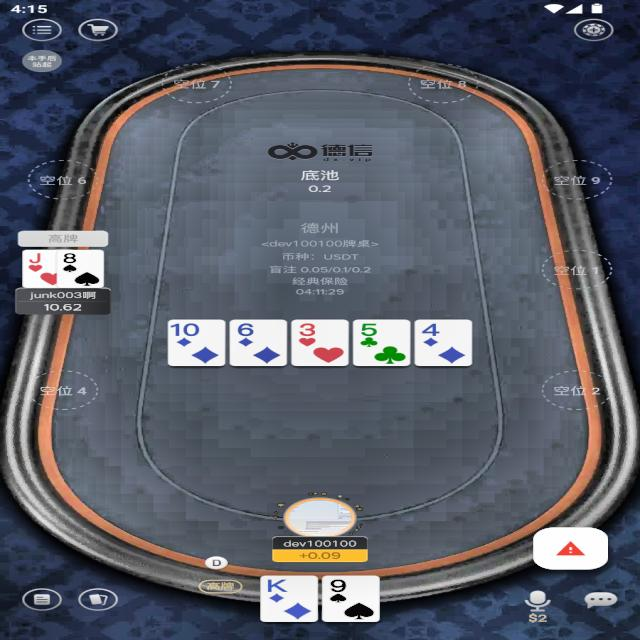10f: (168, 322, 202, 338)
3h: (297, 322, 319, 338)
4f: (419, 322, 443, 338)
5m: (358, 322, 379, 336)
6f: (234, 320, 256, 338)
8s: (60, 251, 79, 264)
9s: (327, 578, 347, 594)
Jh: (26, 251, 46, 264)
Kf: (264, 576, 288, 593)
